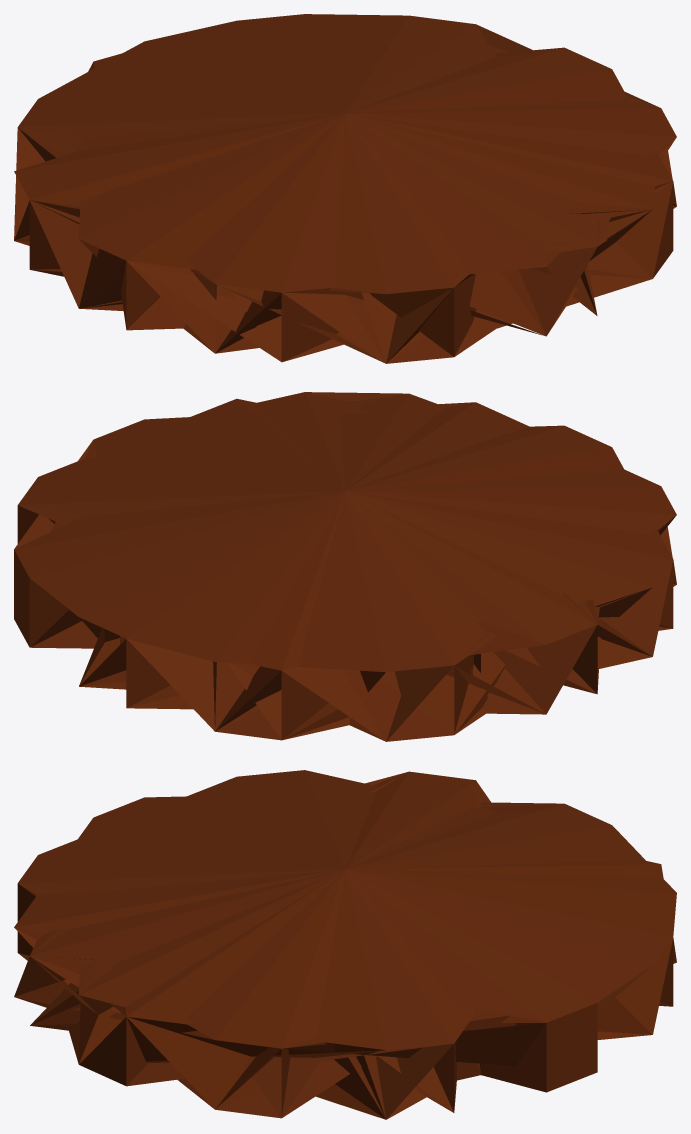
Rendered from S.S._Dolphin_Gluon_Drive_cog_2.obj.
3 views of the same model, one above another, from view 1: azimuth 30°, elevation 25°; view 2: azimuth 150°, elevation 25°; view 3: azimuth 270°, elevation 25° (orthographic).
Visible parts, largest first — view 1: S.S._Dolphin_Gluon_Drive_cog_2; view 2: S.S._Dolphin_Gluon_Drive_cog_2; view 3: S.S._Dolphin_Gluon_Drive_cog_2.
Part boxes in pixels (x1,y1,x2,y2): S.S._Dolphin_Gluon_Drive_cog_2: [14, 14, 676, 363]; S.S._Dolphin_Gluon_Drive_cog_2: [14, 392, 676, 741]; S.S._Dolphin_Gluon_Drive_cog_2: [14, 770, 676, 1119].
Size of the model in its own units: 2.2 by 0.4037 by 2.2.
